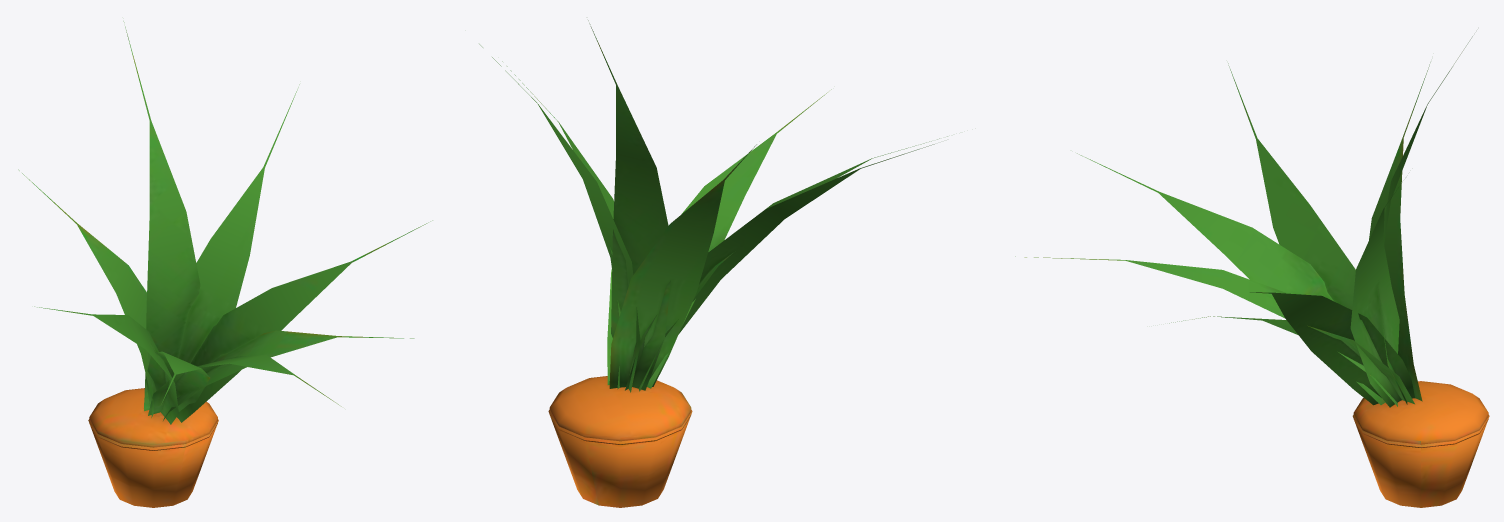
File: crop_carrot.glb
3 views of the same model, side by side, from view 1: azimuth 30°, elevation 25°; view 2: azimuth 150°, elevation 25°; view 3: azimuth 270°, elevation 25° (orthographic). The views are drawn at different scales.
Visible parts, largest first — view 1: crop_carrot, fruit; view 2: crop_carrot, fruit; view 3: crop_carrot, fruit.
Boxes of the visible parts, x1,y1,x2,y2 form: crop_carrot: (18, 21, 432, 424); fruit: (88, 388, 218, 507); crop_carrot: (479, 20, 947, 392); fruit: (548, 376, 692, 507); crop_carrot: (1015, 36, 1472, 407); fruit: (1352, 381, 1489, 507).
Bounding box in the file's own units: 0.3673 × 0.3837 × 0.3483.
Materials: 1 (1 with a texture image).
